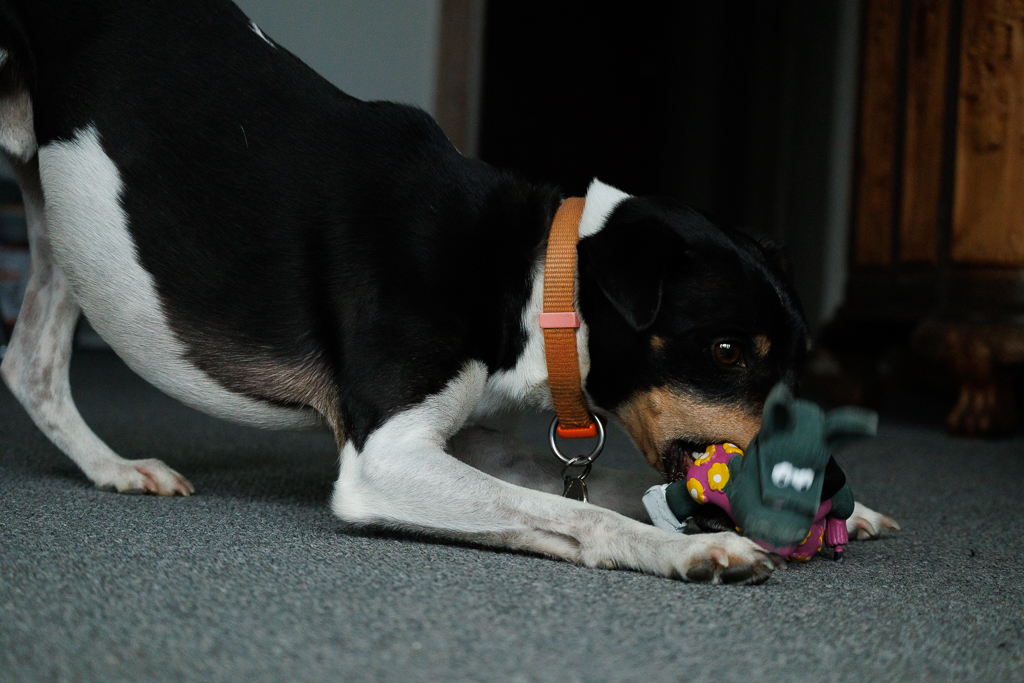Dog: (0, 0, 931, 595)
Humanoid: (636, 368, 893, 572)
